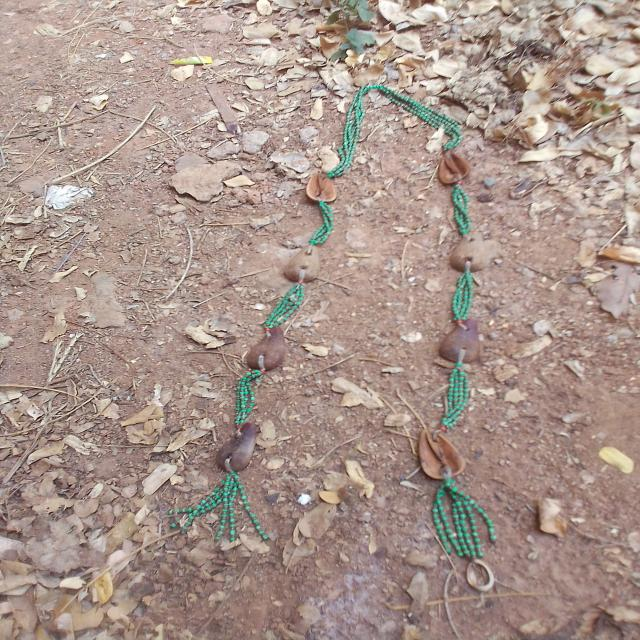facedown: (215, 418, 261, 478), (437, 315, 482, 365), (244, 324, 290, 372), (284, 242, 326, 285), (448, 231, 489, 273)
faceup: (414, 427, 467, 482), (436, 147, 472, 188), (303, 169, 342, 205)
